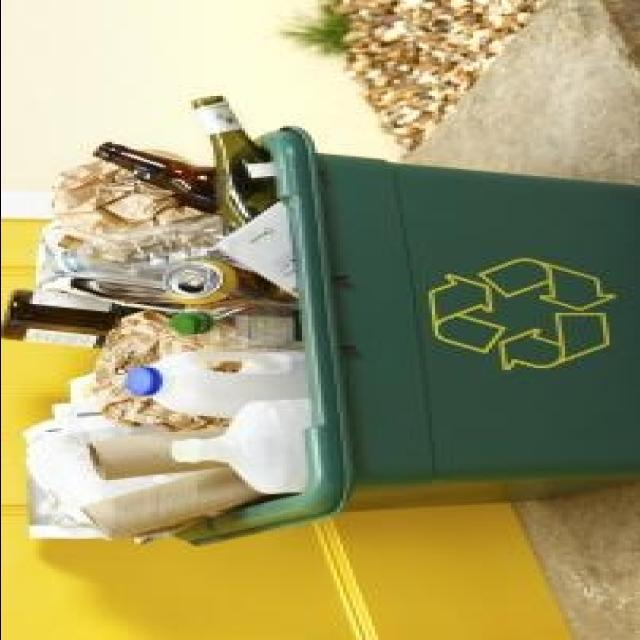Garbage: (0, 96, 306, 541)
Glass_bottle: (192, 98, 276, 234), (91, 142, 216, 212), (0, 290, 118, 348)
Plastic: (172, 399, 310, 494), (125, 350, 306, 418)
Plastic_bottle: (52, 216, 230, 280), (167, 300, 301, 349)
can: (163, 258, 291, 306)
